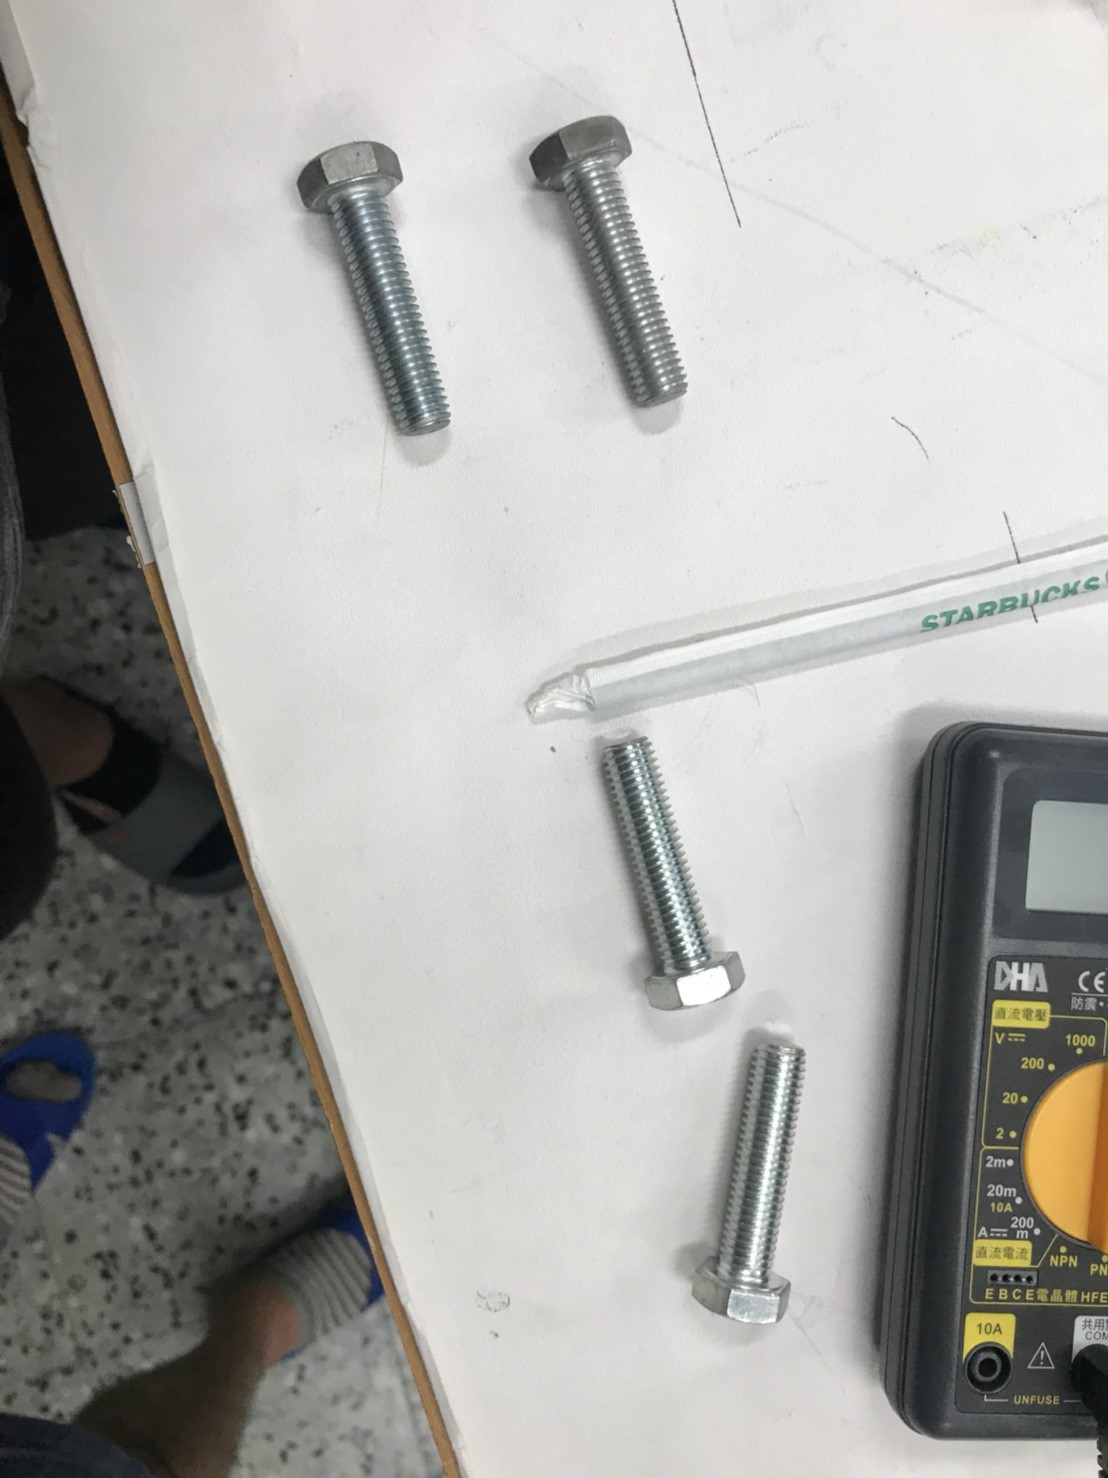screw: (511, 108, 719, 421), (290, 125, 471, 449), (583, 727, 758, 1017), (694, 1031, 828, 1353)
